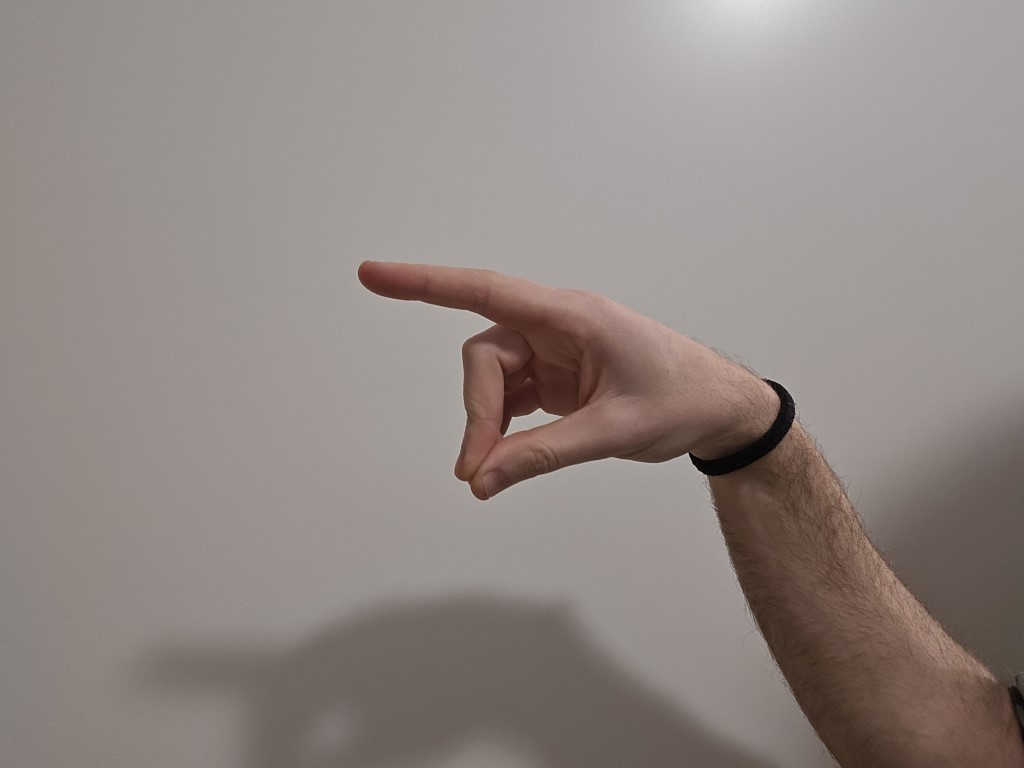p: (320, 222, 704, 536)
